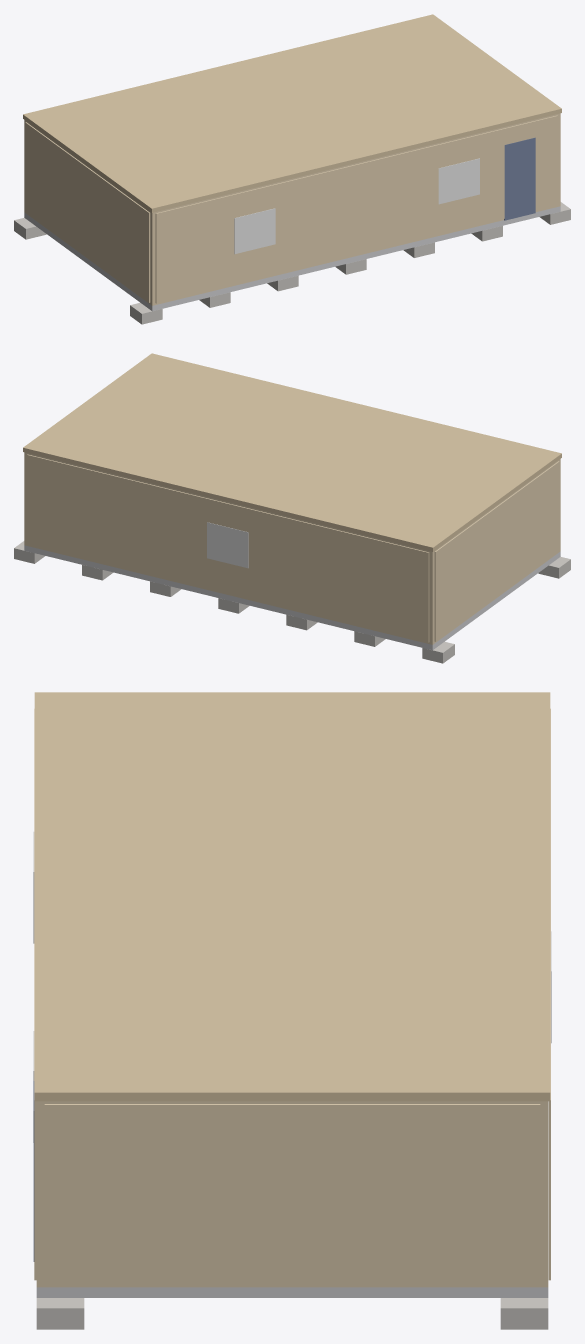
File: Studio-40-Base-LightBrownSand-LOD1.glb
3 views of the same model, one above another, from view 1: azimuth 30°, elevation 25°; view 2: azimuth 150°, elevation 25°; view 3: azimuth 270°, elevation 25° (orthographic). The views are drawn at different scales.
Parts seen in each view (by area): view 1: RoofMain, ExteriorPanelsStandard, BaseFrame, WindowsStandard, ExteriorShell, FoundationBlocks, EntryDoor; view 2: RoofMain, ExteriorPanelsStandard, BaseFrame, ExteriorShell, FoundationBlocks, WindowsStandard; view 3: RoofMain, ExteriorPanelsStandard, ExteriorShell, BaseFrame, FoundationBlocks.
Part boxes in pixels (<box>): RoofMain: <box>23,14,561,212</box>; ExteriorPanelsStandard: <box>25,115,557,303</box>; BaseFrame: <box>24,206,560,311</box>; WindowsStandard: <box>234,158,479,254</box>; ExteriorShell: <box>24,113,560,305</box>; FoundationBlocks: <box>14,202,570,324</box>; EntryDoor: <box>504,137,535,220</box>; RoofMain: <box>23,353,561,551</box>; ExteriorPanelsStandard: <box>27,454,559,642</box>; BaseFrame: <box>24,545,560,650</box>; ExteriorShell: <box>24,452,560,644</box>; FoundationBlocks: <box>14,541,570,663</box>; WindowsStandard: <box>207,522,248,568</box>; RoofMain: <box>34,692,550,1101</box>; ExteriorPanelsStandard: <box>34,708,550,1284</box>; ExteriorShell: <box>36,1101,548,1287</box>; BaseFrame: <box>36,1287,548,1297</box>; FoundationBlocks: <box>36,1298,548,1329</box>.
Size of the model in its own units: 12.49 by 3.17 by 6.53.
